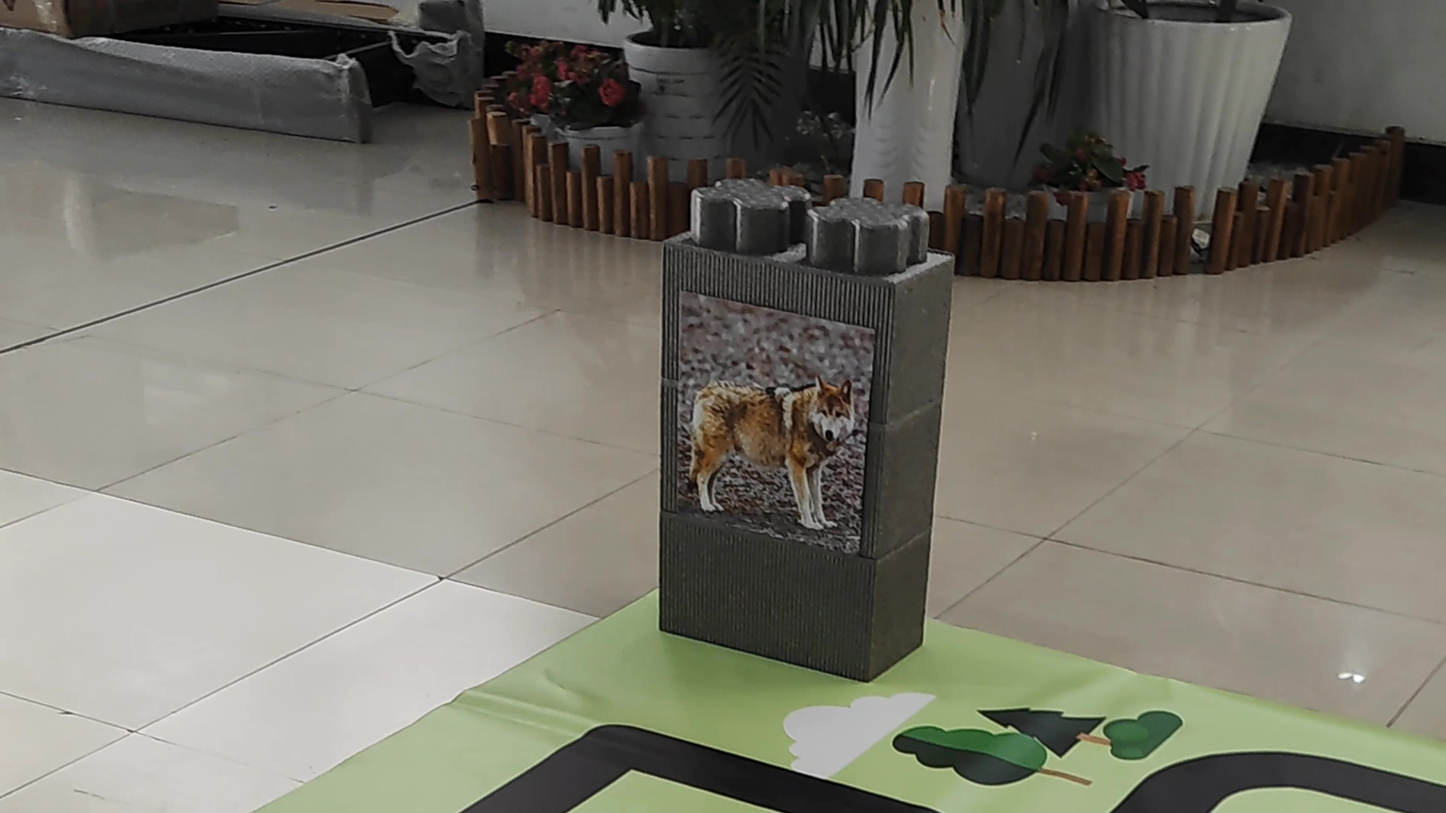wolf: (674, 343, 859, 554)
